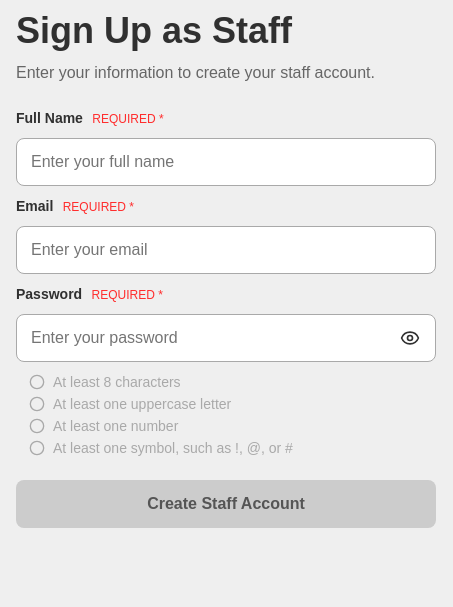
Test case: StaffSignup › shows an error when the email is already registered
Type "Staff Test" into the field labelled "Full Name" at coordinates (226, 162), box [16,138,436,186]
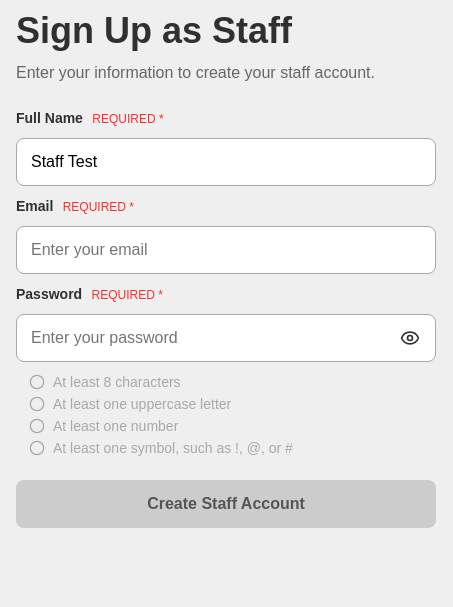
Type "staff.test@example.com" into the field labelled "Email" at coordinates (226, 250), box [16,226,436,274]
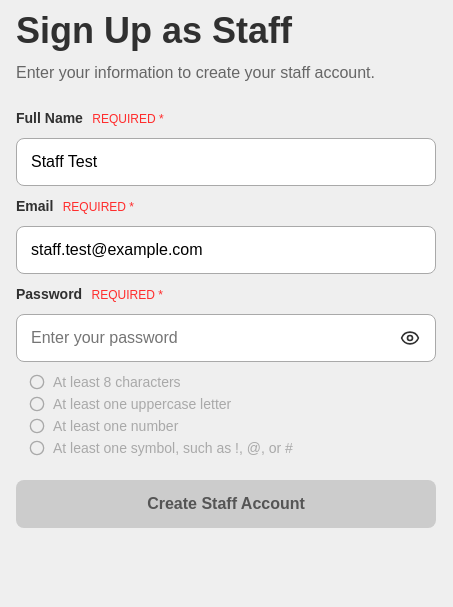
Type "LocalTestPass123!" into the password field labelled "Password" at coordinates (226, 338), box [16,314,436,362]
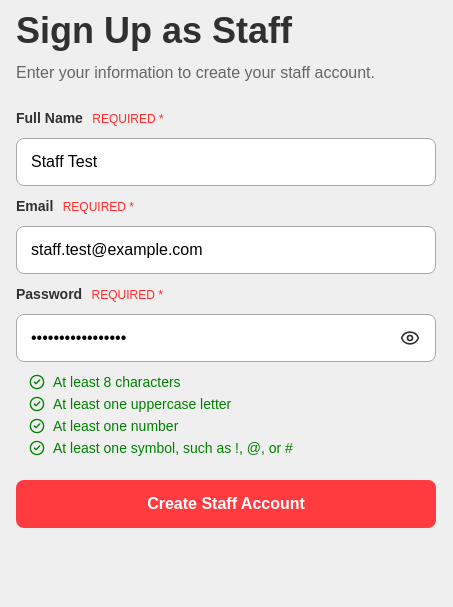
Click the button "Create Staff Account" at coordinates (226, 504), box [16,480,436,528]
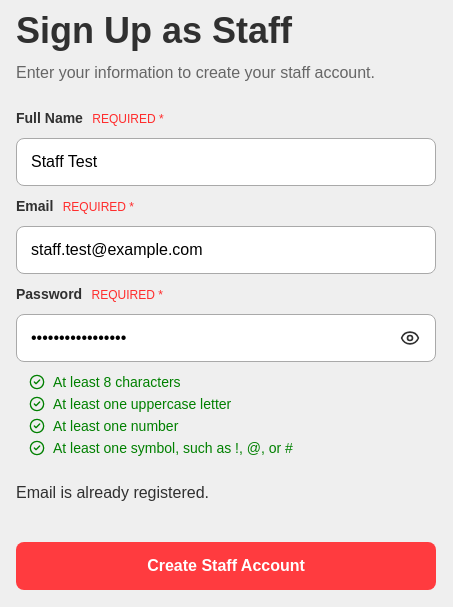
Expected: the message reads "Email is already registered.", [16,484,209,501]
